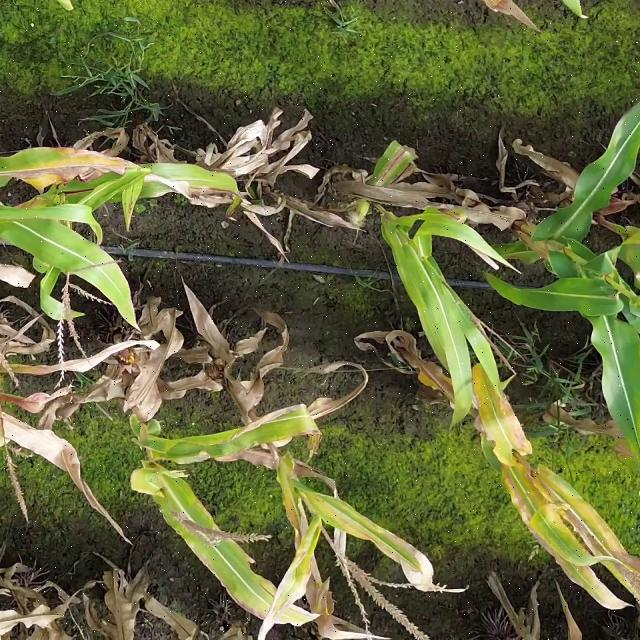northern-leaf-blight: (316, 494, 414, 558), (9, 158, 117, 185), (562, 508, 626, 553), (506, 480, 550, 529), (368, 142, 413, 186)
